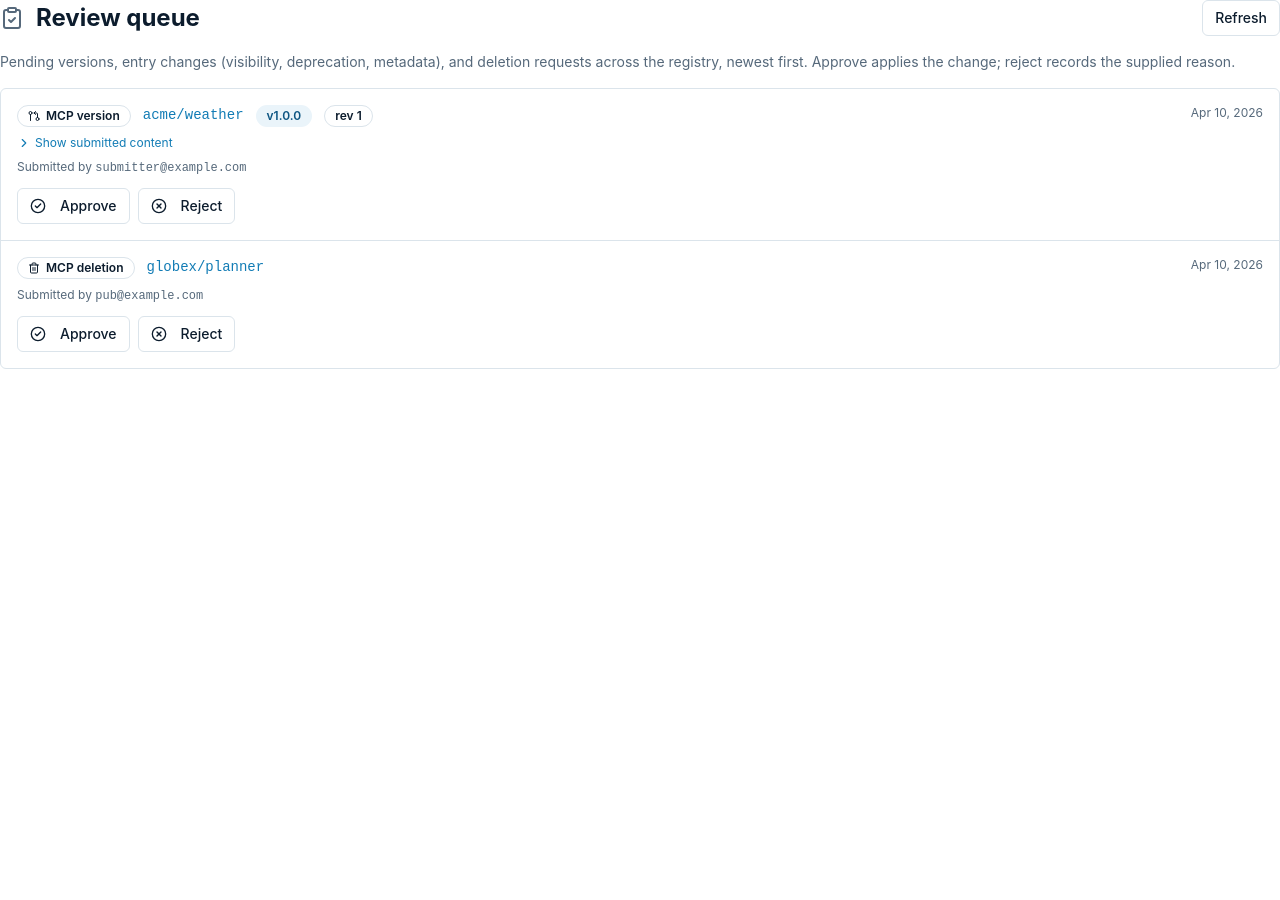
AdminReviewQueue › surfaces a friendly error on revision-mismatch
Click the button "Approve" below "MCP version".
click(73, 206)  # box [17,188,130,224]
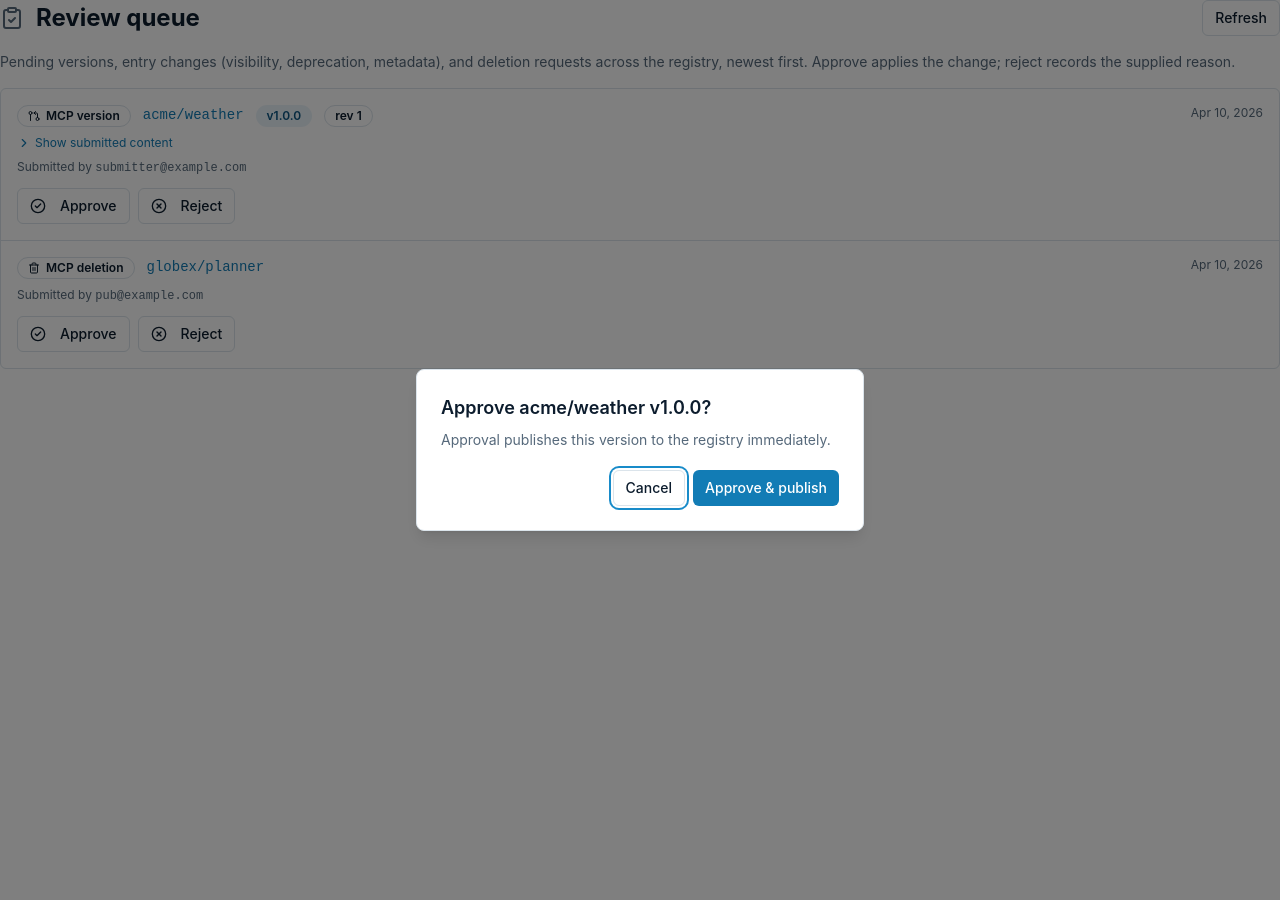
Click the button "Approve & publish".
click(766, 488)  # box [693,470,839,506]
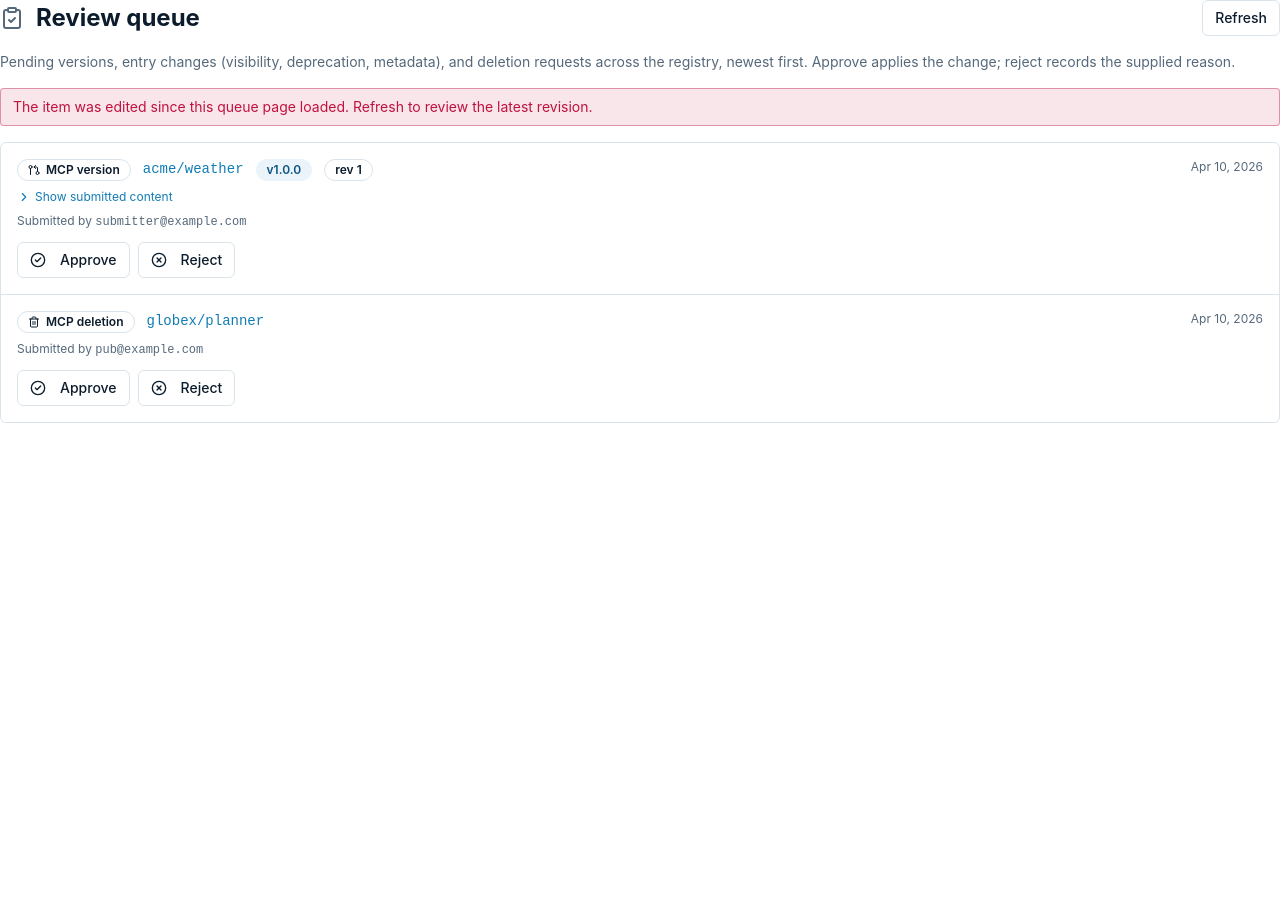
expect the text "edited since this queue page loaded" is shown: met, box [13,98,592,115]
